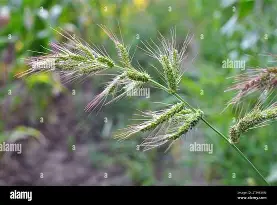weed: (28, 32, 211, 136)
